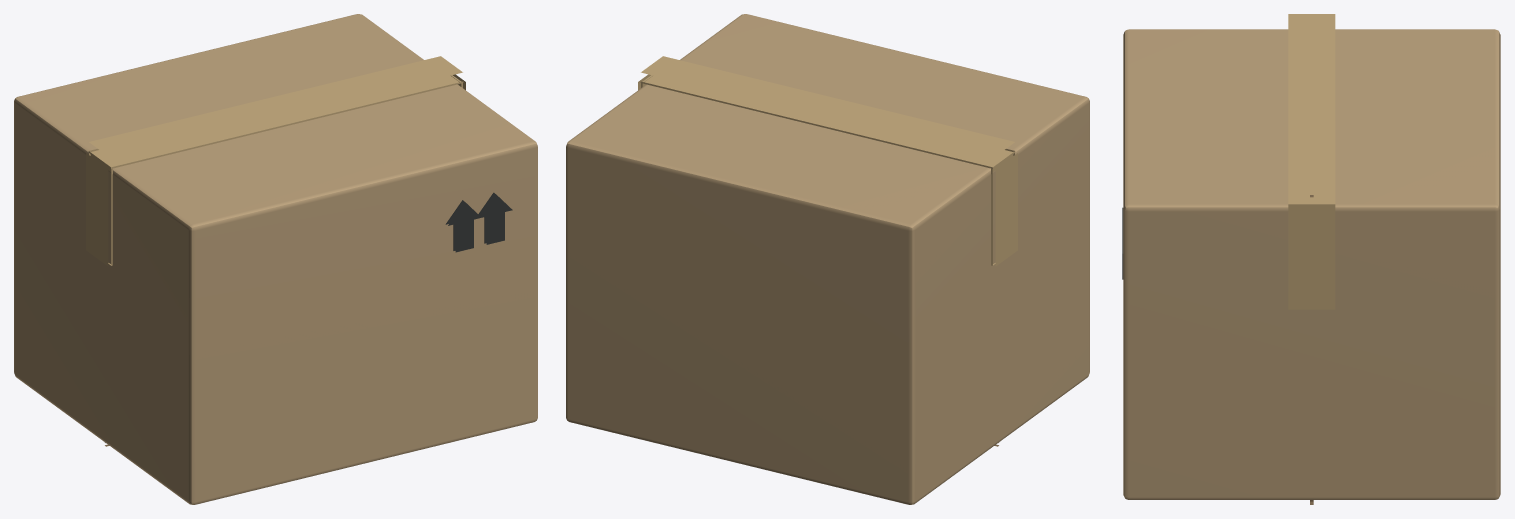
The model's file is industrial.yard.box_cardboard.glb.
3 views of the same model, side by side, from view 1: azimuth 30°, elevation 25°; view 2: azimuth 150°, elevation 25°; view 3: azimuth 270°, elevation 25° (orthographic). The views are drawn at different scales.
Visible parts, largest first — view 1: main__paint_ba7, main__paint_ca7, main__paint_333; view 2: main__paint_ba7, main__paint_ca7; view 3: main__paint_ba7, main__paint_ca7.
Part boxes in pixels (x1=…): main__paint_ba7: x1=14, y1=14, x2=537, y2=504; main__paint_ca7: x1=86, y1=56, x2=465, y2=266; main__paint_333: x1=445, y1=192, x2=512, y2=252; main__paint_ba7: x1=566, y1=14, x2=1089, y2=504; main__paint_ca7: x1=638, y1=56, x2=1017, y2=266; main__paint_ba7: x1=1123, y1=29, x2=1500, y2=499; main__paint_ca7: x1=1288, y1=14, x2=1335, y2=309.
Size of the model in its own units: 0.461 by 0.366 by 0.4051.
